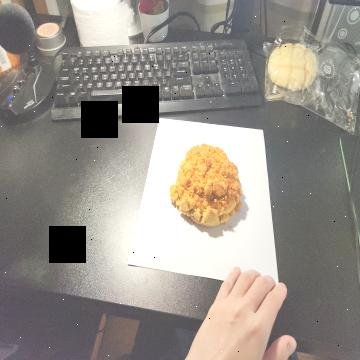soboru_bread: (170, 145, 242, 231)
